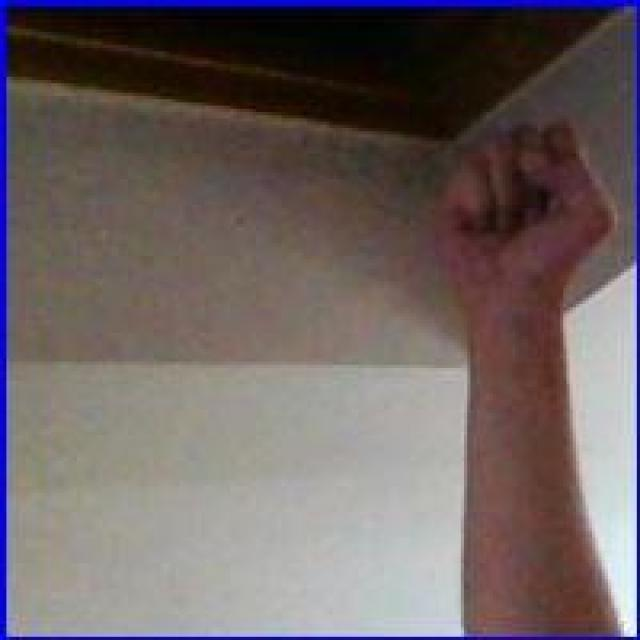S: (430, 112, 620, 310)
